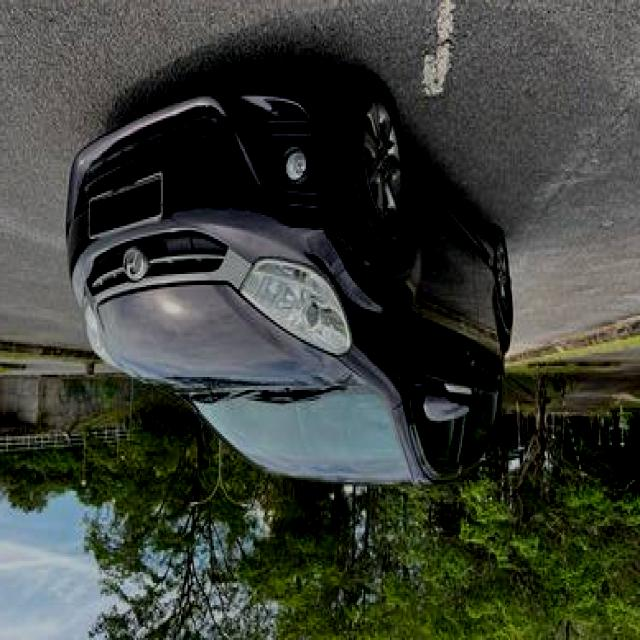PeroduaMyvi: (64, 72, 517, 491)
